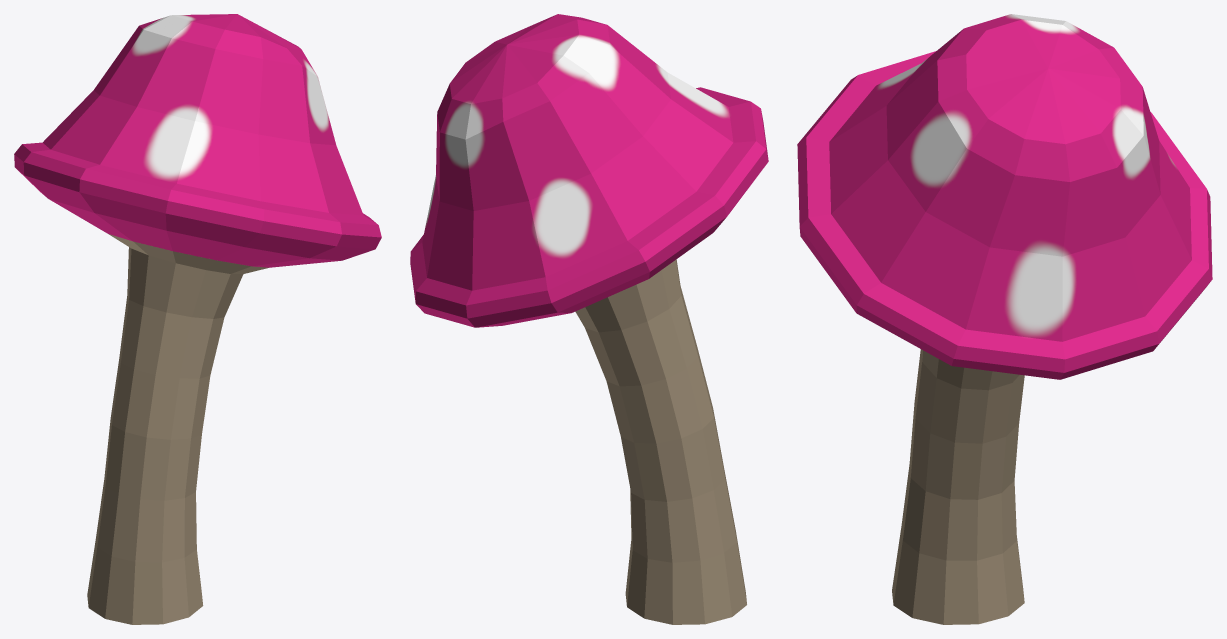
Rendered from mushy2.fbx.
The picture shows the model from 3 angles, left to right: view 1: azimuth 30°, elevation 25°; view 2: azimuth 150°, elevation 25°; view 3: azimuth 270°, elevation 25°; orthographic projection. The views are drawn at different scales.
Visible parts, largest first — view 1: Cylinder_3; view 2: Cylinder_3; view 3: Cylinder_3.
Boxes of the visible parts, x1,y1,x2,y2 form: Cylinder_3: [14, 14, 381, 624]; Cylinder_3: [410, 14, 768, 624]; Cylinder_3: [797, 14, 1212, 624].
Size of the model in its own units: 199 by 337 by 205.
1 material, 1 textured.
